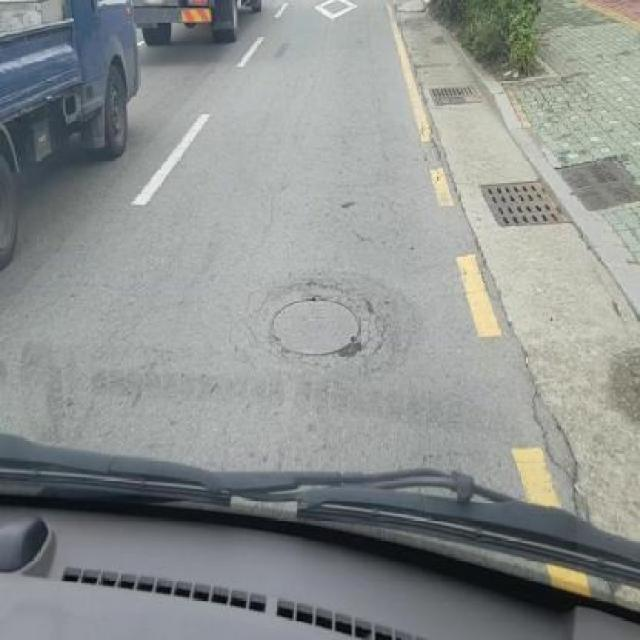Manhole: (268, 292, 364, 360), (479, 168, 572, 234), (556, 150, 640, 218), (426, 84, 484, 108)
